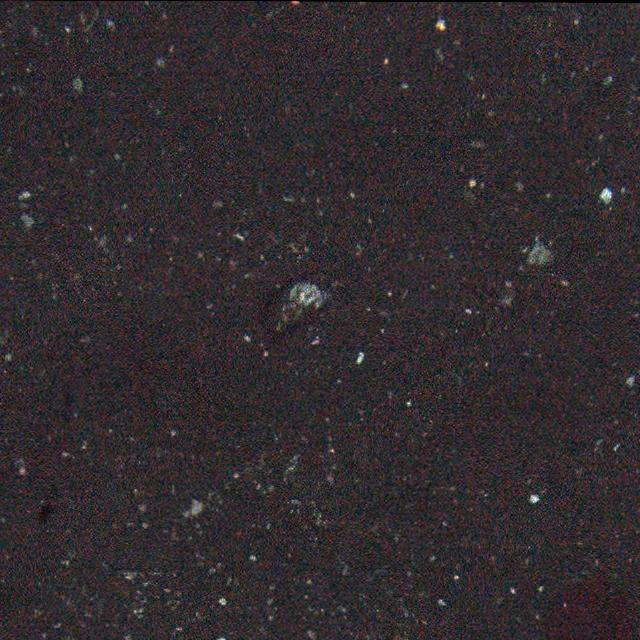whelk: (262, 270, 338, 332)
